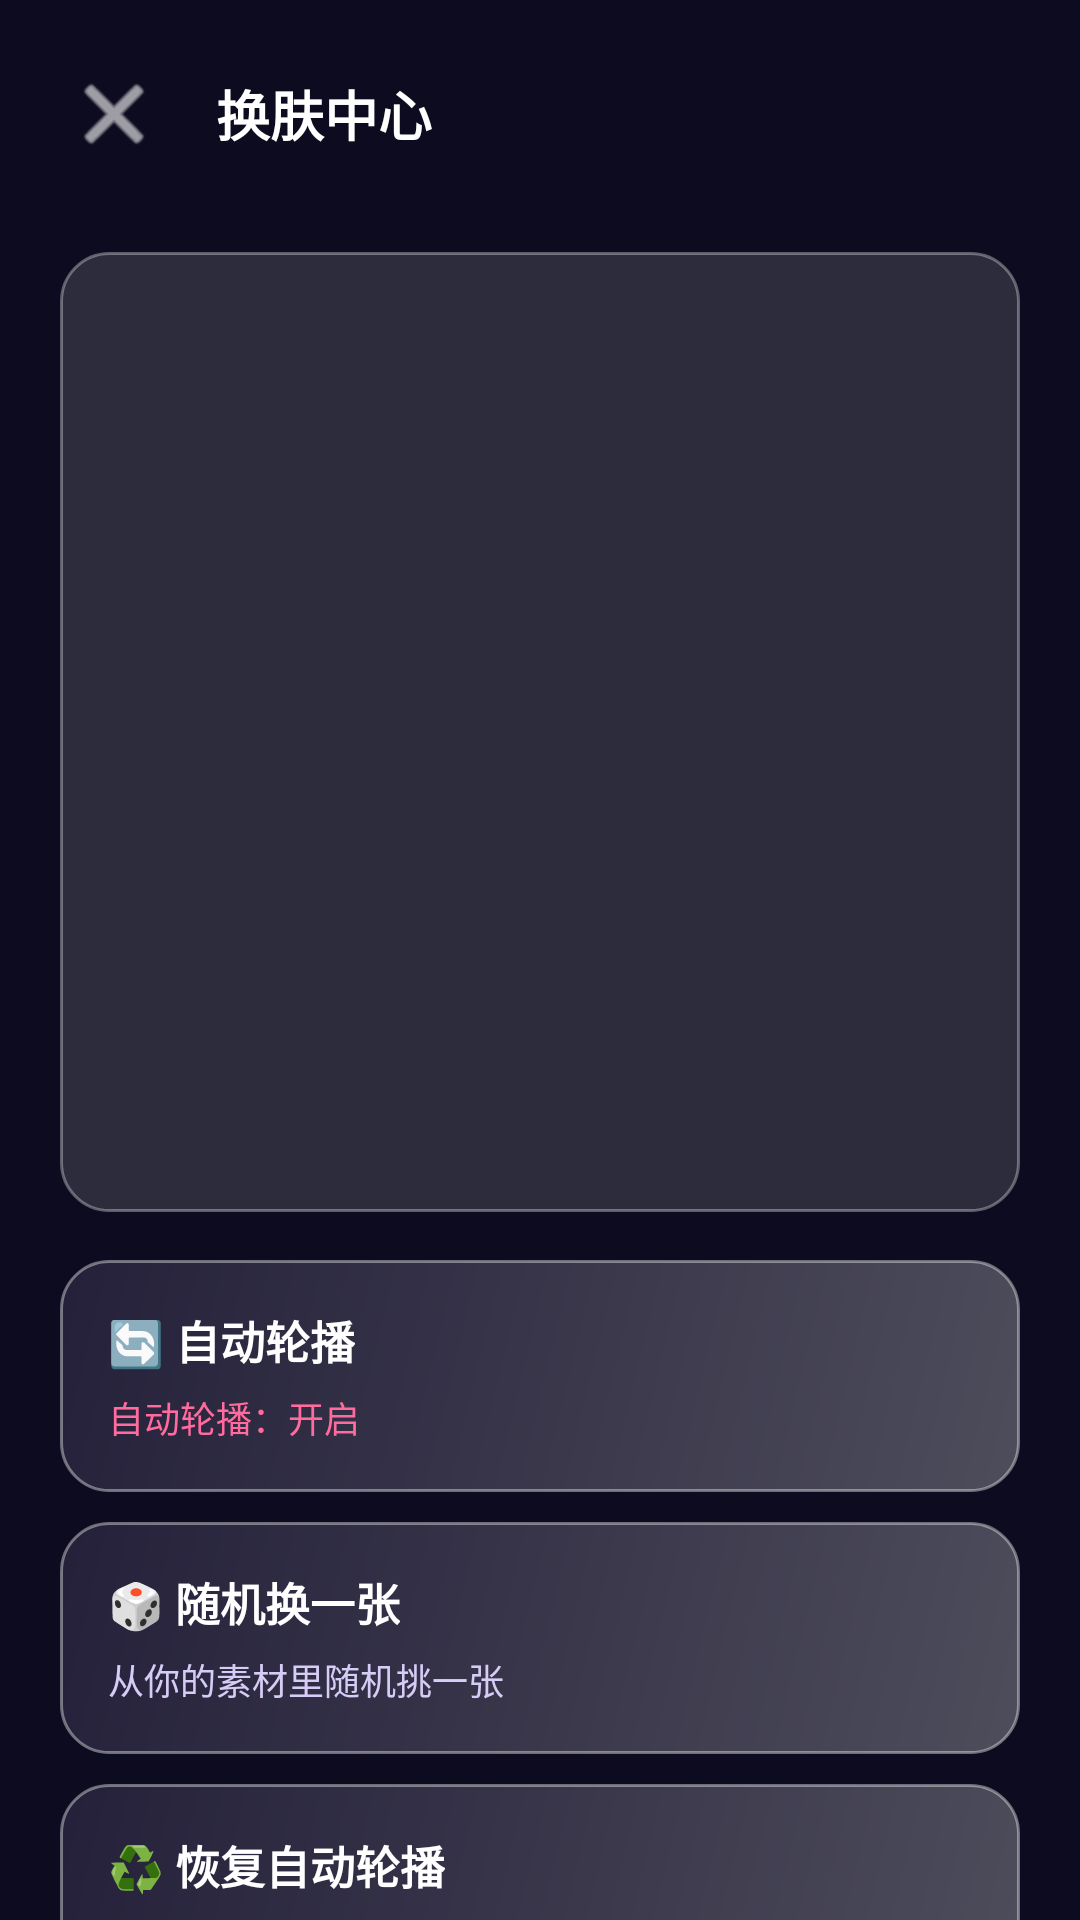

Icons on this 1080px x 1920px Android screen, each with the point to tap as [x,y]:
close clear cancel: [114,114]
